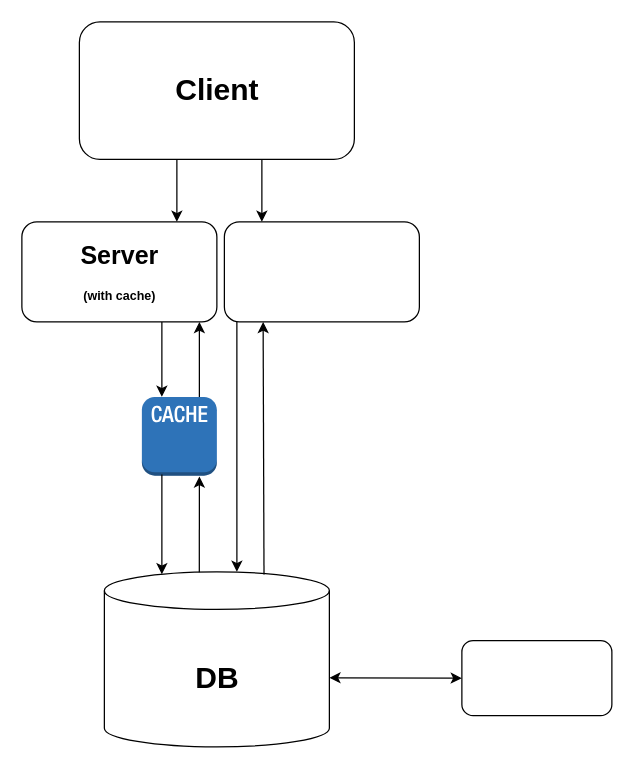
Image size: 634x769. Some labels were removed from this diagram. Each missing label, with the box of its shape:
PHPmyAdmin: (461, 639, 612, 716)
Server (without cache ): (223, 221, 419, 322)
